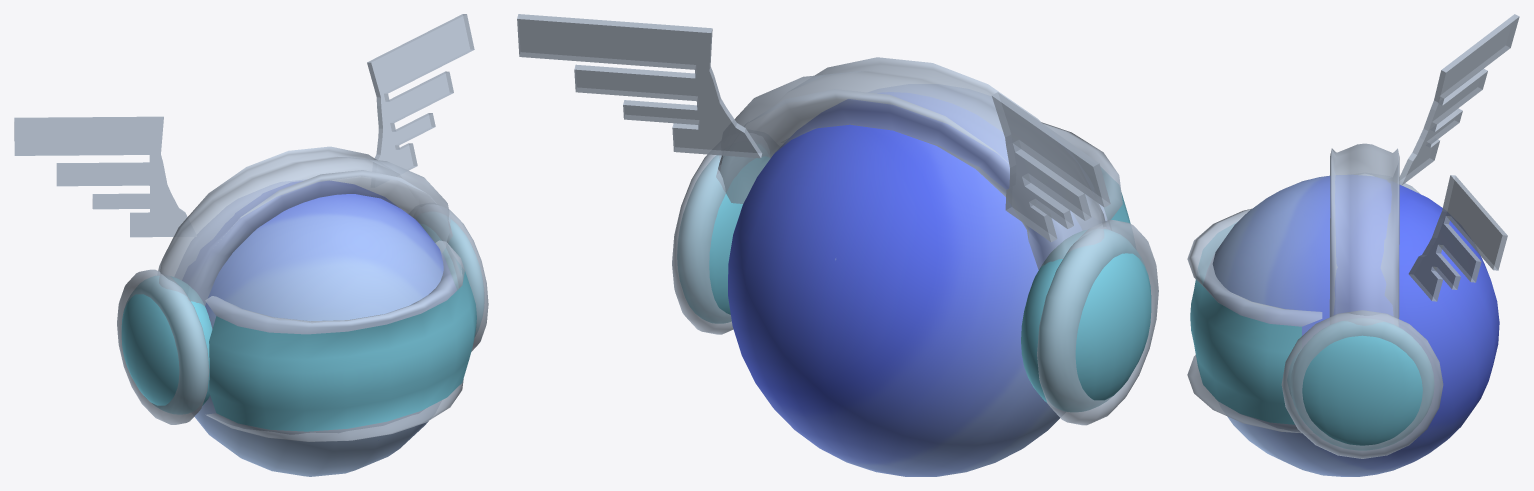
Rendered from airman_blue.fbx.
The picture shows the model from 3 angles, left to right: view 1: azimuth 30°, elevation 25°; view 2: azimuth 150°, elevation 25°; view 3: azimuth 270°, elevation 25°; orthographic projection. The views are drawn at different scales.
Parts seen in each view (by area): view 1: polySurface3; view 2: polySurface3; view 3: polySurface3.
Boxes of the visible parts, x1,y1,x2,y2 form: polySurface3: (14,14,488,476); polySurface3: (517,14,1158,476); polySurface3: (1187,14,1519,476).
Size of the model in its own units: 11.14 by 7.91 by 6.96.
3 materials, 1 textured.
